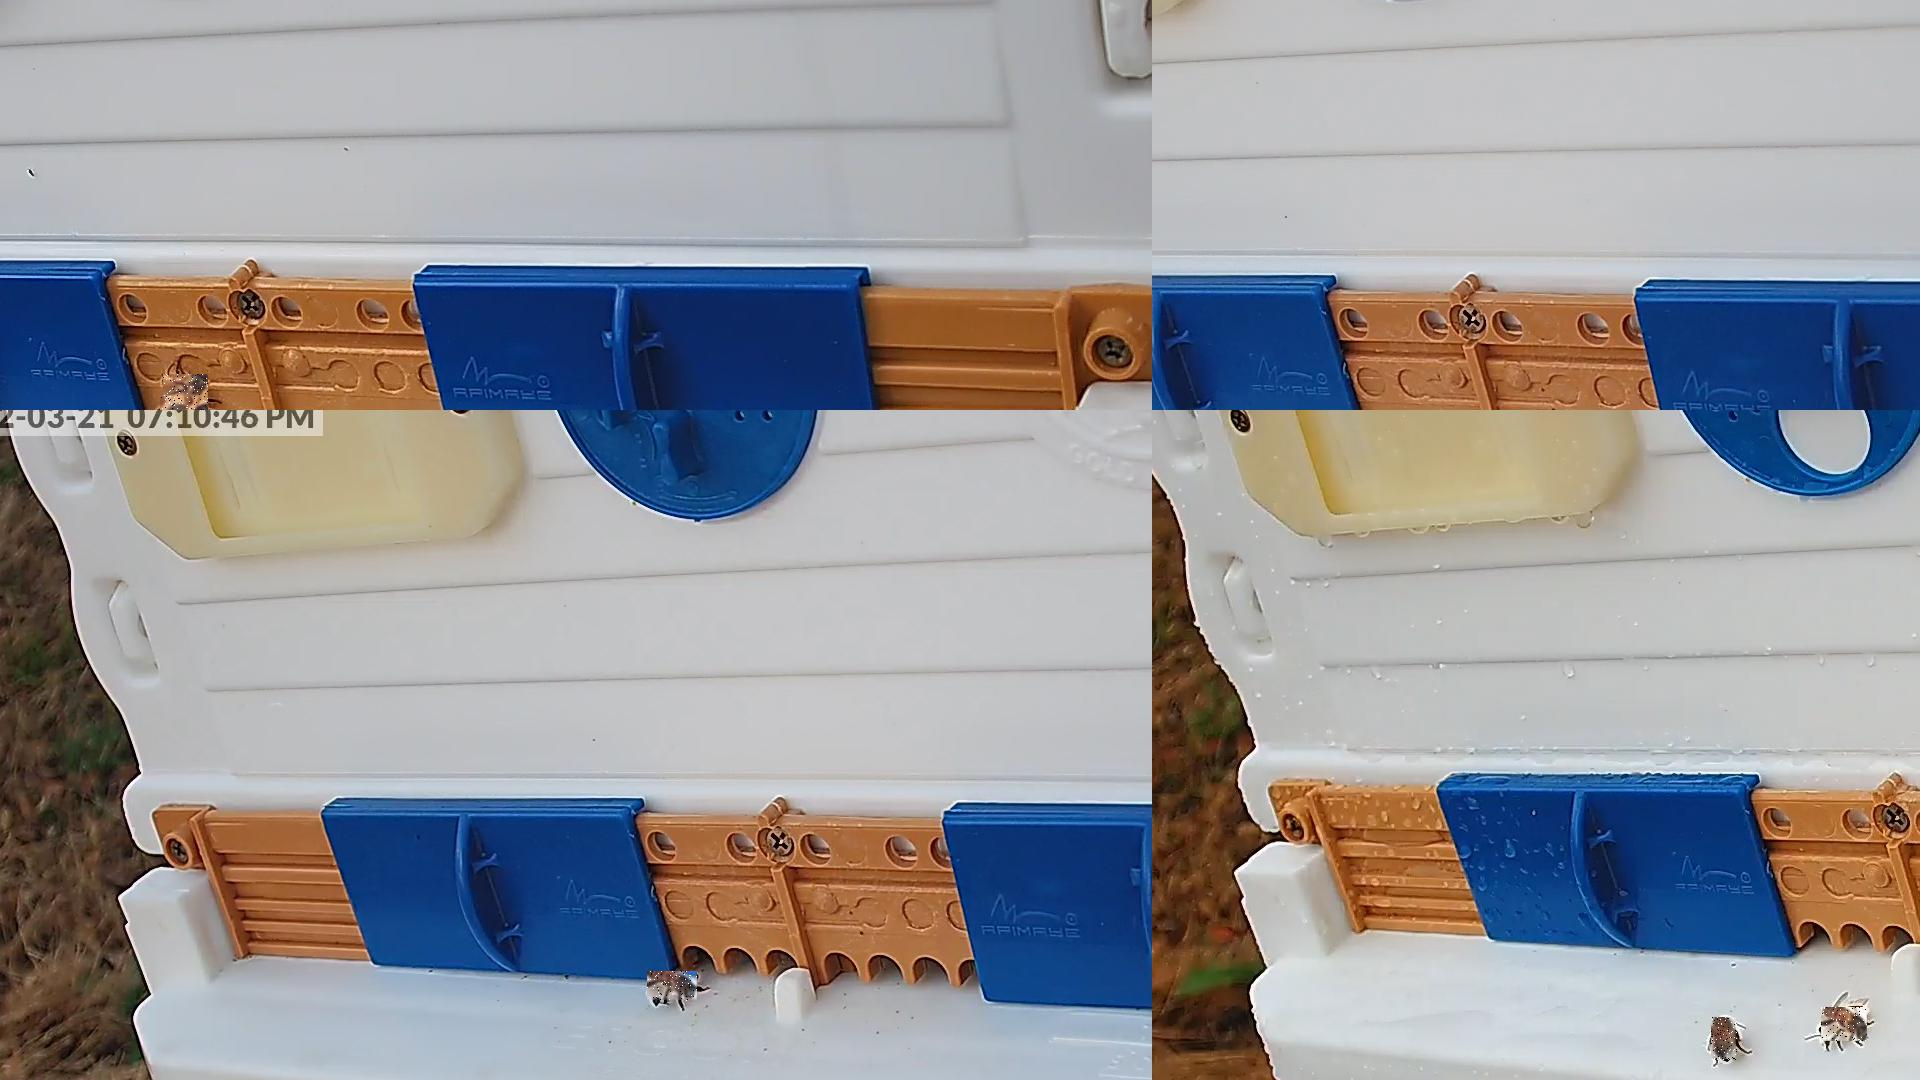bee: (1821, 1007, 1869, 1042), (164, 375, 210, 409), (647, 972, 698, 1002), (1712, 1018, 1739, 1062), (160, 397, 185, 409)
